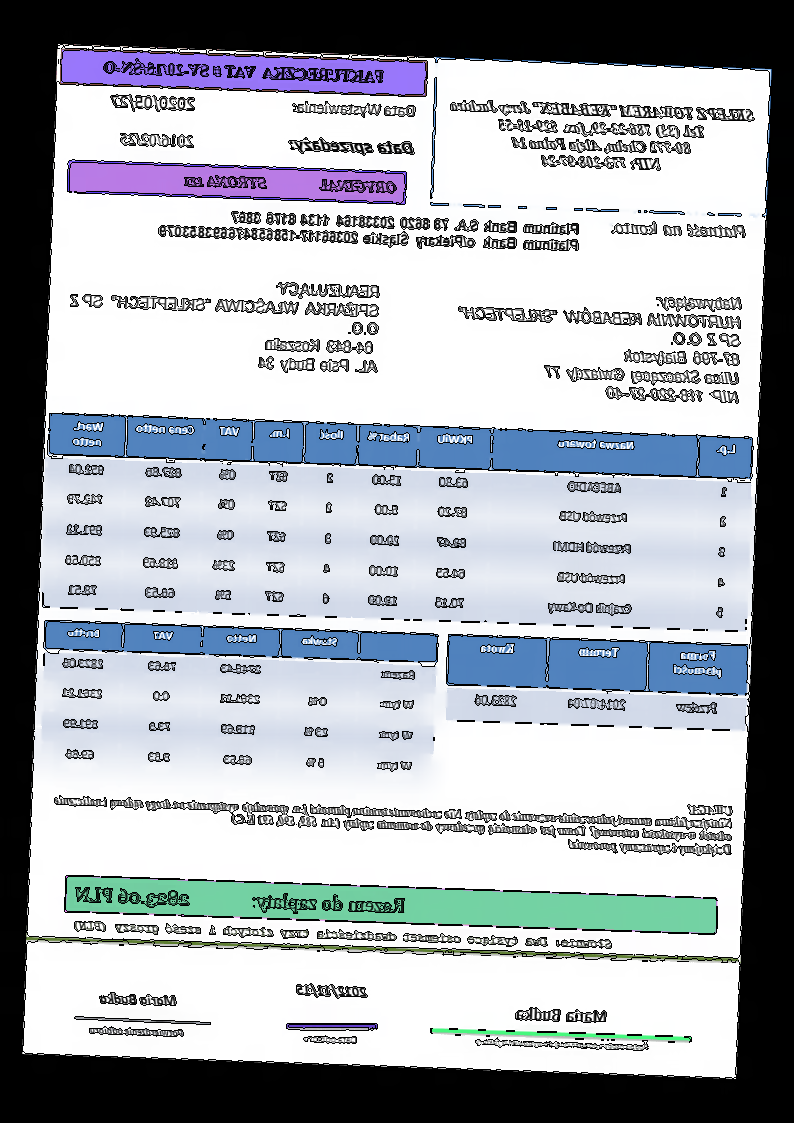Table: (41, 410, 755, 635), (38, 618, 441, 788), (443, 632, 750, 733)
TextBox: (52, 778, 735, 859), (452, 284, 744, 406), (64, 272, 383, 375), (448, 94, 758, 180), (154, 205, 581, 257), (72, 917, 617, 952), (73, 880, 411, 922), (97, 53, 386, 89), (181, 171, 400, 197), (610, 217, 748, 241), (471, 1035, 652, 1053), (290, 97, 420, 120), (287, 137, 417, 158), (107, 90, 198, 116), (511, 1004, 611, 1026), (87, 1022, 186, 1040), (96, 990, 180, 1009), (118, 130, 196, 149), (293, 981, 371, 1000), (299, 1030, 361, 1047)
